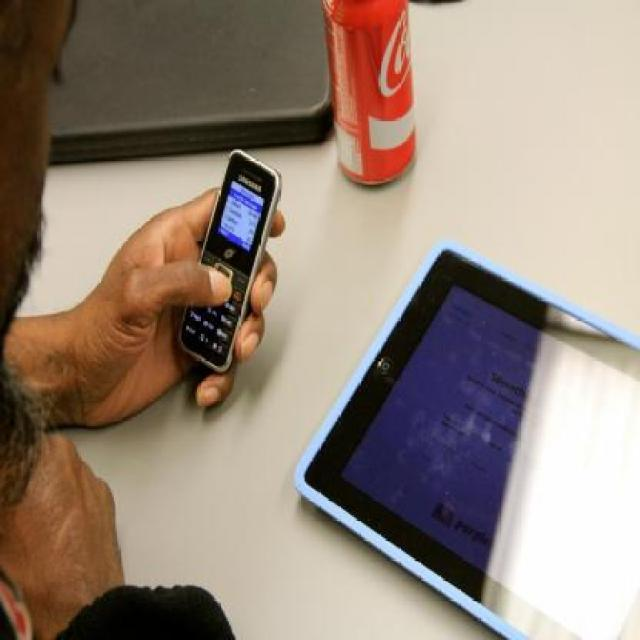phone: (187, 151, 285, 387)
